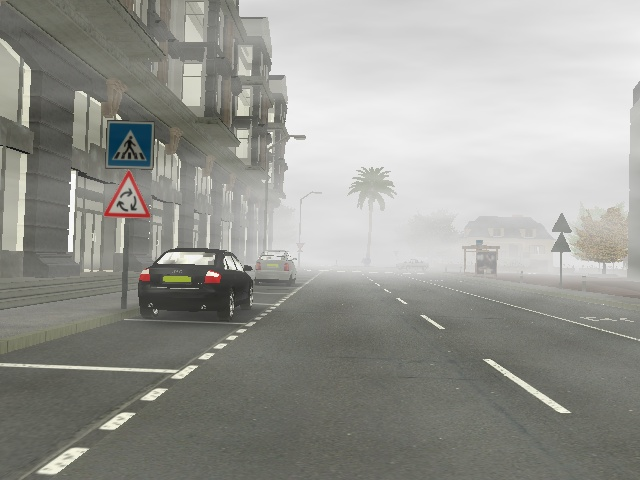Crossroad: (97, 170, 151, 223)
Pedestrian crossing: (104, 118, 155, 168)
